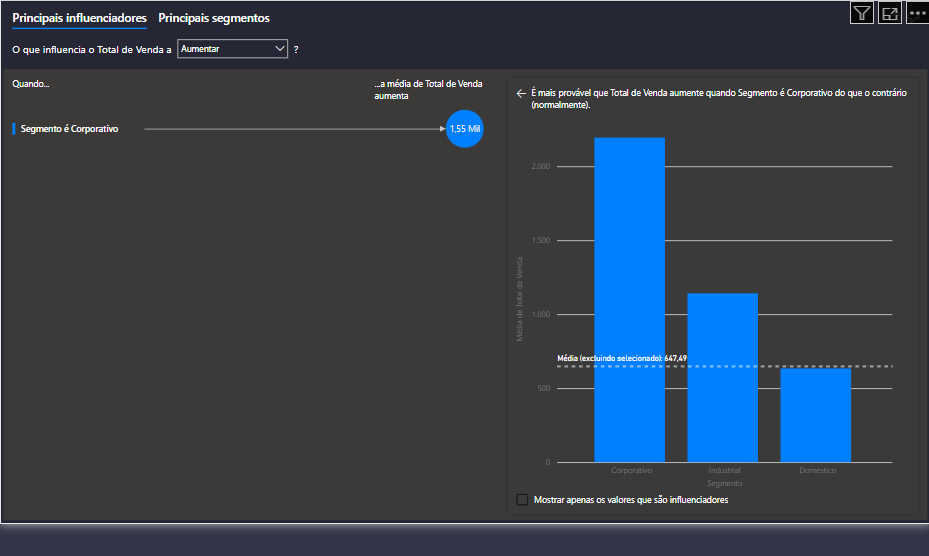

What the dashboard file says about the page in this screenshot:
{"tool":"powerbi","page":{"name":"Principais Influenciadores de Venda","canvas":[1280,720],"ordinal":2},"visuals":[{"type":"keyDriversVisual","fields":{"Target":["Dados_Comerciais.ValorVenda"],"ExplainBy":["Dados_Comerciais.Segmento"]},"box":[0,0,1280,720.4],"z":0}]}

Visuals, with their boxes on the page's 1280x720 design canvas (x1, y1, x2, y2). These are canvas units, not pixel positions in the 929x556 screenshot, which may show the page scaled, cropped or inside an application window:
keyDriversVisual - Dados_Comerciais.ValorVenda x Dados_Comerciais.Segmento: box(0, 0, 1280, 720)
